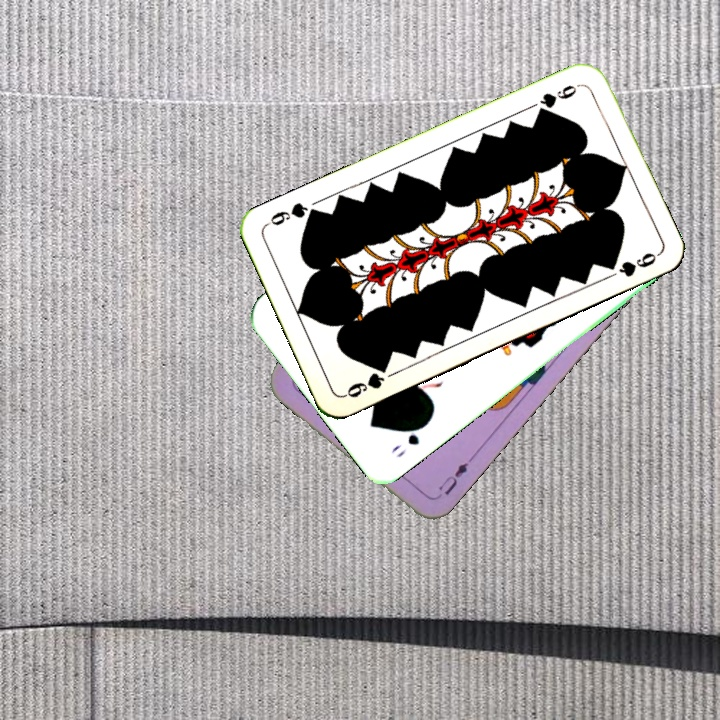EU: (432, 458, 471, 502)
G9: (340, 359, 391, 401), (533, 79, 584, 117)
GO: (387, 418, 431, 460)
